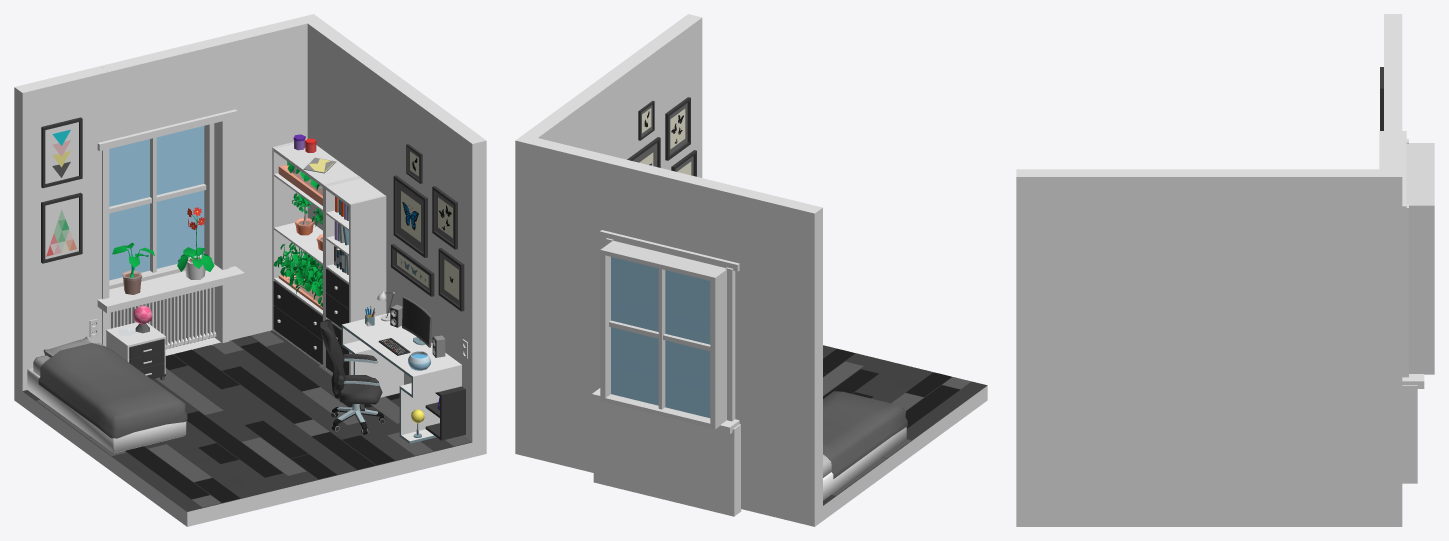
The model's file is room_22.glb.
The picture shows the model from 3 angles, left to right: view 1: azimuth 30°, elevation 25°; view 2: azimuth 150°, elevation 25°; view 3: azimuth 270°, elevation 25°; orthographic projection. The views are drawn at different scales.
Parts seen in each view (by area): view 1: floor_007.001, Walls_006.046, Walls_006.048, Walls_006.047, window_003.002, bed_003.001, Walls_011.008, closet_034.001, Walls_006.049, shelf_058.001, office_table_038.001, bathroom_item_030.002 (+17 smaller); view 2: Walls_006.048, Walls_006.047, window_003.002, Walls_006.046, Walls_005.465, Walls_006.049, floor_007.001, bed_003.001, Walls_011.008, Walls_005.462, picture_027.001, Walls_005.461 (+2 smaller); view 3: Walls_006.046, window_003.002, Walls_005.465, Walls_006.049, Walls_005.463, Walls_006.047, Walls_006.048, Walls_005.461.
Part boxes in pixels (<box>): floor_007.001: <box>23,330,471,511</box>; Walls_006.046: <box>300,14,486,457</box>; Walls_006.048: <box>14,66,107,406</box>; Walls_006.047: <box>214,17,307,340</box>; window_003.002: <box>109,123,214,289</box>; bed_003.001: <box>27,336,187,453</box>; Walls_011.008: <box>22,331,472,526</box>; closet_034.001: <box>272,139,359,367</box>; Walls_006.049: <box>100,38,222,140</box>; shelf_058.001: <box>324,177,386,375</box>; office_table_038.001: <box>341,313,465,443</box>; bathroom_item_030.002: <box>109,287,216,349</box>; Walls_006.048: <box>729,186,822,526</box>; Walls_006.047: <box>529,138,622,472</box>; window_003.002: <box>600,240,726,429</box>; Walls_006.046: <box>515,14,702,457</box>; Walls_005.465: <box>593,401,741,516</box>; Walls_006.049: <box>615,159,736,260</box>; floor_007.001: <box>823,345,986,504</box>; bed_003.001: <box>823,391,907,500</box>; Walls_011.008: <box>823,348,987,520</box>; Walls_005.462: <box>725,267,735,421</box>; picture_027.001: <box>665,97,690,160</box>; Walls_005.461: <box>599,230,739,271</box>; Walls_006.046: <box>1016,169,1402,526</box>; window_003.002: <box>1406,143,1434,374</box>; Walls_005.465: <box>1402,385,1417,483</box>; Walls_006.049: <box>1384,60,1402,122</box>; Walls_005.463: <box>1402,204,1408,377</box>; Walls_006.047: <box>1384,122,1402,169</box>; Walls_006.048: <box>1384,14,1402,60</box>; Walls_005.461: <box>1379,131,1406,213</box>.
Bounding box in the file's own units: 4.2 × 4.24 × 4.55.
1 material, 1 textured.
